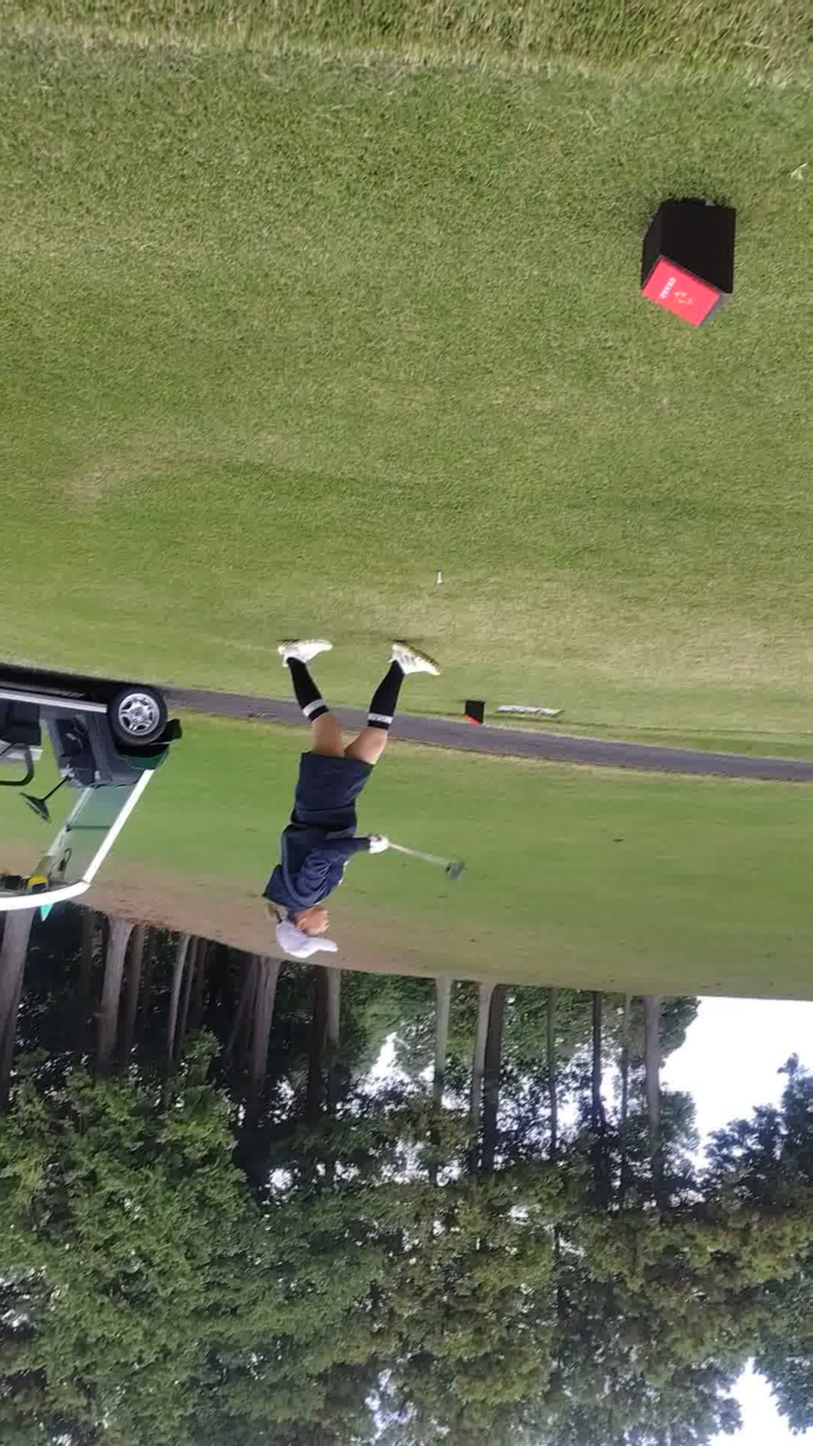clubhead: (374, 800, 505, 931)
